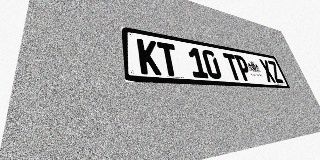0: (201, 49, 222, 79)
1: (186, 47, 209, 78)
K: (137, 38, 161, 75)
P: (234, 55, 253, 81)
T: (157, 42, 181, 77), (222, 53, 243, 80)
X: (258, 59, 276, 83)
Z: (267, 60, 284, 83)
